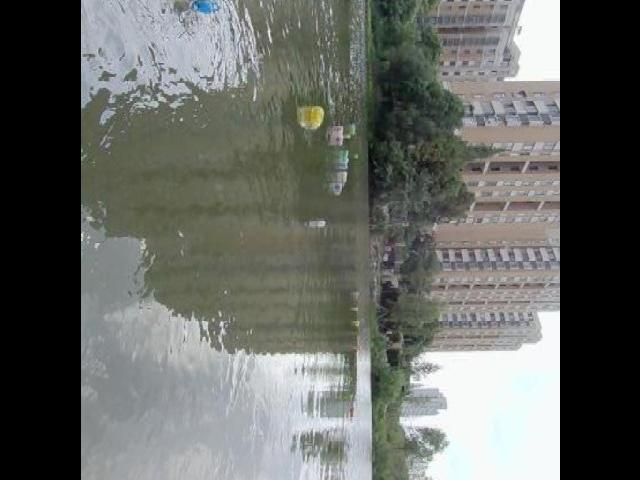Bottle: (178, 0, 236, 29), (302, 96, 328, 136), (308, 214, 328, 240), (332, 123, 344, 149), (346, 119, 356, 141), (340, 148, 350, 170), (331, 181, 342, 199)
Waste: (351, 150, 361, 161)
